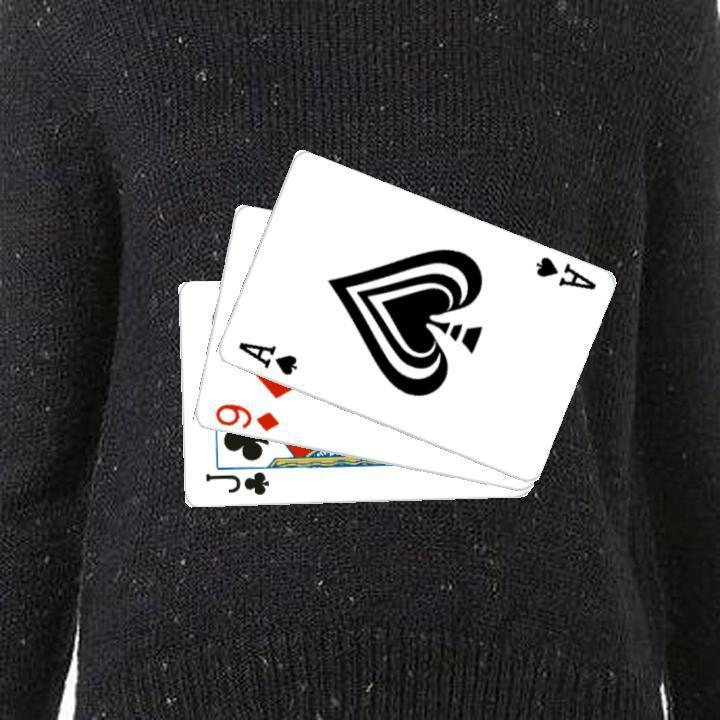9: (210, 399, 281, 434)
A: (530, 252, 598, 293), (233, 338, 299, 378)
J: (200, 468, 270, 498)
